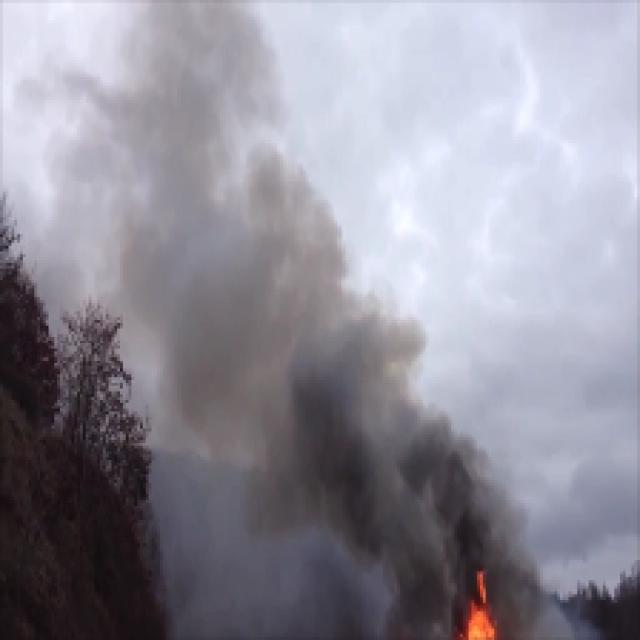smoke: (61, 7, 292, 459), (304, 230, 438, 614), (446, 433, 519, 586)
